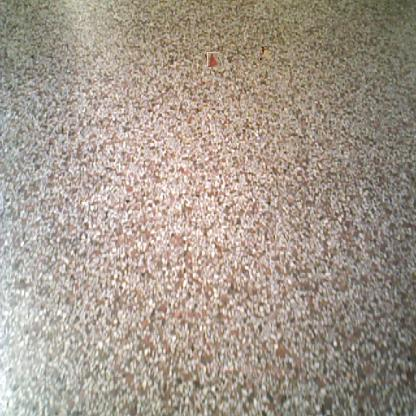dirty: (260, 48, 274, 61), (206, 53, 219, 66)
